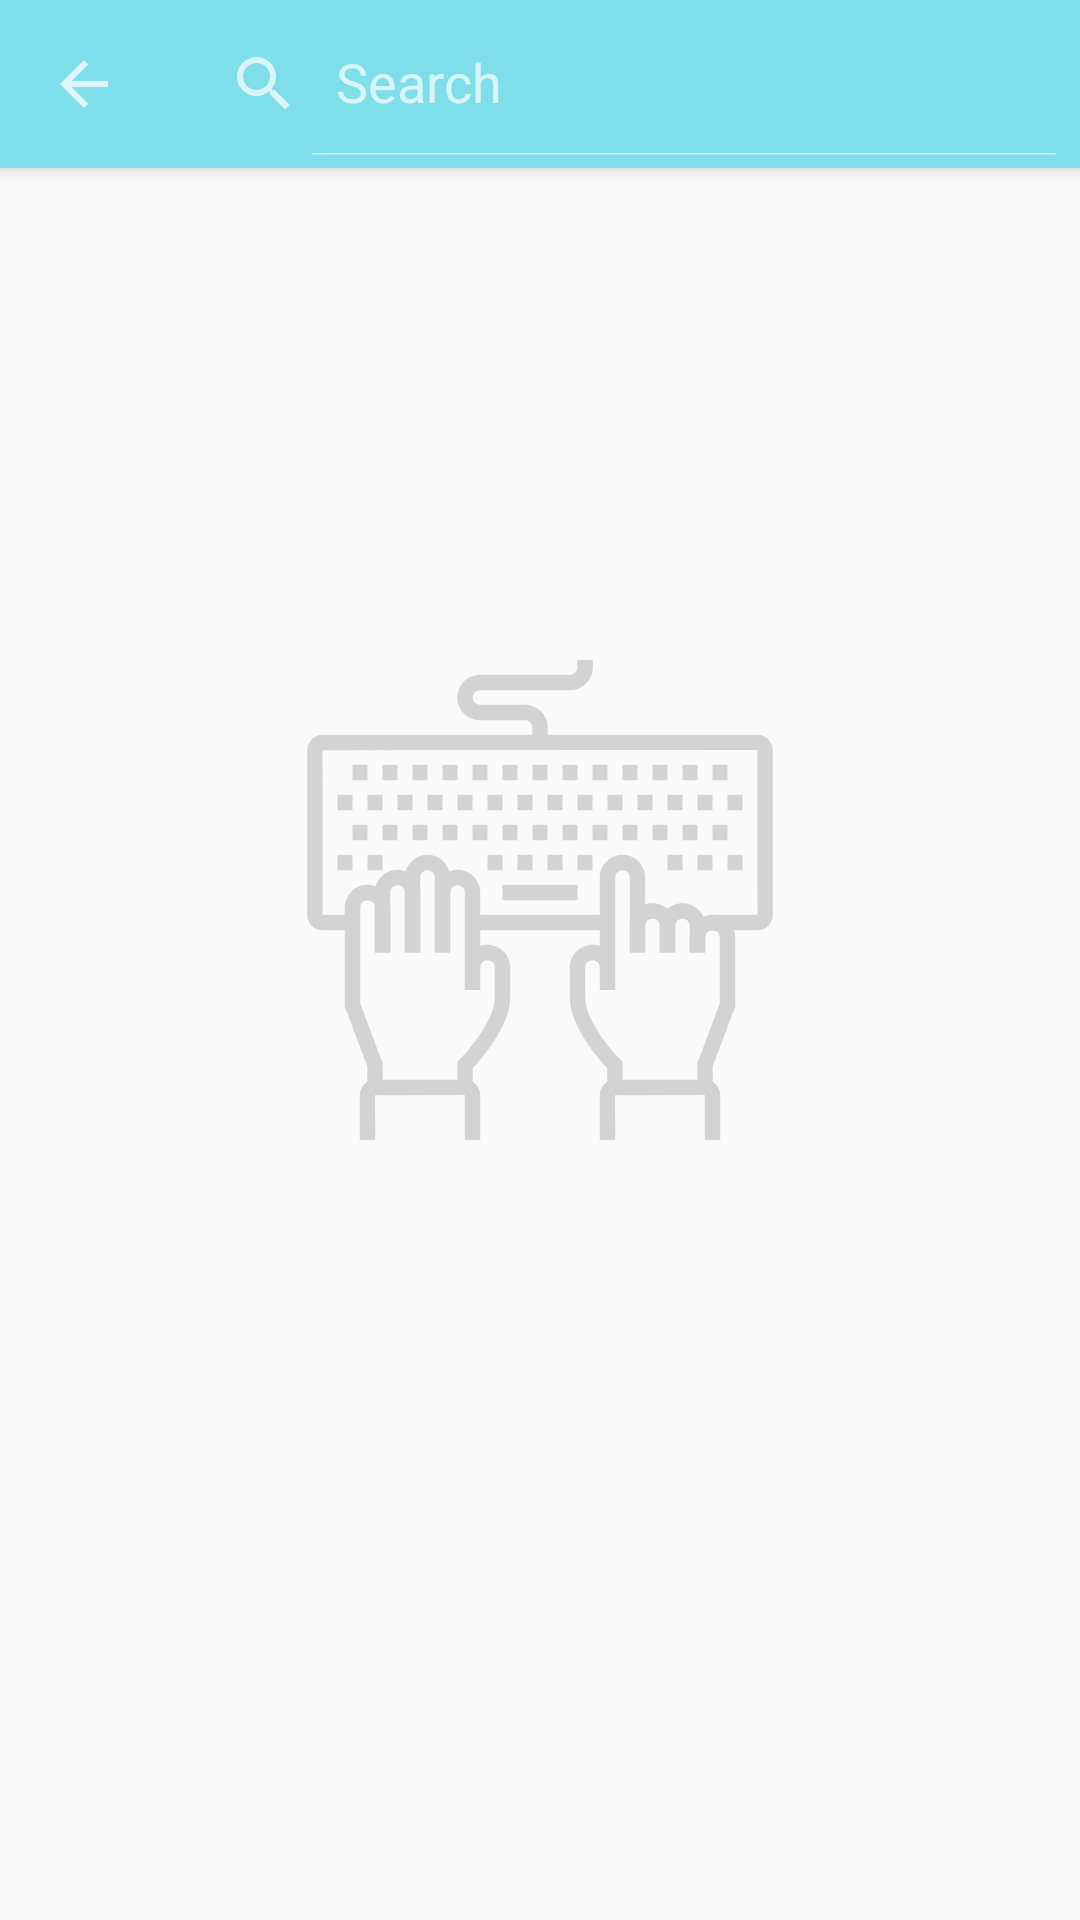

Icon bounding boxes for this 1080w x 1920h phone screenshot, format (x1, y1, x2, y2):
back press arrow: (60, 60, 108, 108)
